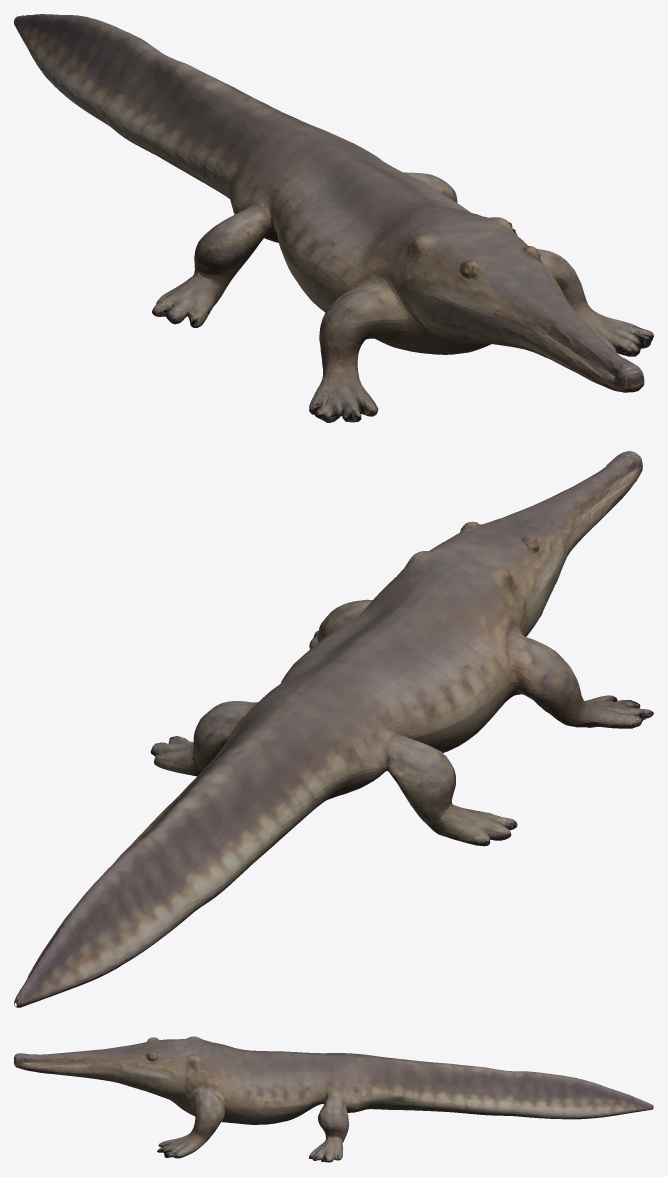
The picture shows the model from 3 angles, top to bottom: view 1: azimuth 30°, elevation 25°; view 2: azimuth 150°, elevation 25°; view 3: azimuth 270°, elevation 25°; orthographic projection. The views are drawn at different scales.
Parts seen in each view (by area): view 1: world; view 2: world; view 3: world.
Boxes of the visible parts, x1=… form: world: x1=14, y1=14, x2=653, y2=422; world: x1=14, y1=451, x2=653, y2=1007; world: x1=14, y1=1036, x2=653, y2=1162.
Bounding box in the file's own units: 2.17 × 0.8579 × 6.5.
Materials: 1 (1 with a texture image).
